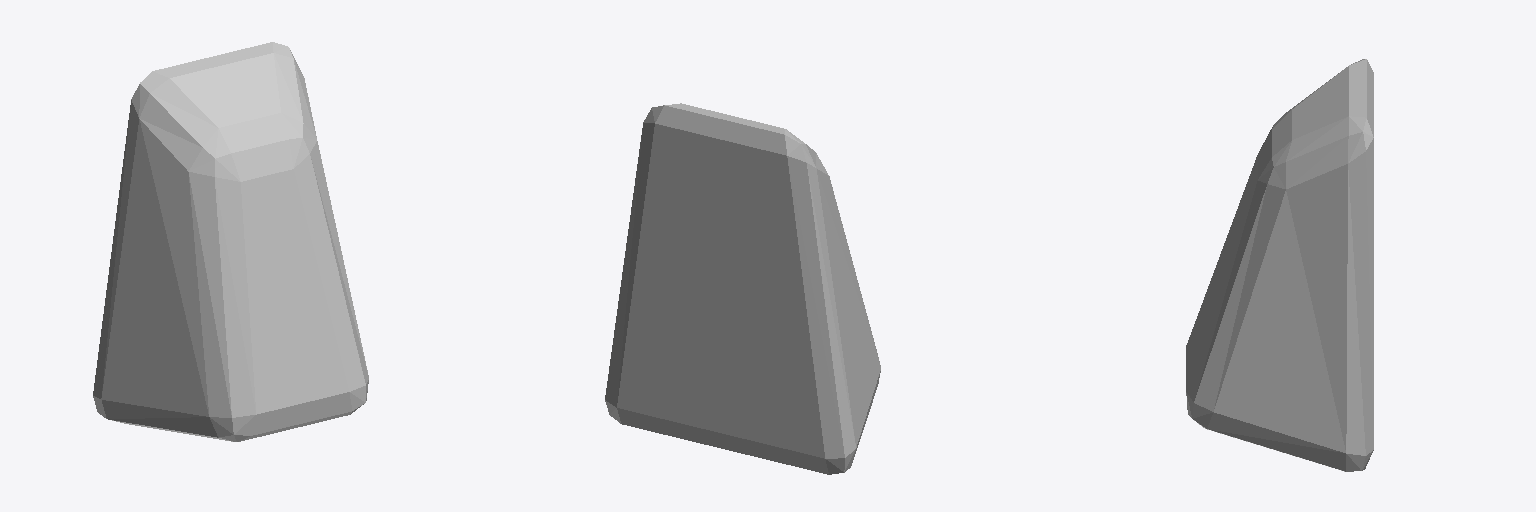
File: nose.obj
3 views of the same model, side by side, from view 1: azimuth 30°, elevation 25°; view 2: azimuth 150°, elevation 25°; view 3: azimuth 270°, elevation 25° (orthographic).
Parts seen in each view (by area): view 1: Nose; view 2: Nose; view 3: Nose.
Part boxes in pixels (x1,y1,x2,y2): Nose: (93,42,368,441); Nose: (605,103,880,474); Nose: (1186,59,1373,471).
Size of the model in its own units: 0.6726 by 0.8874 by 0.4497.